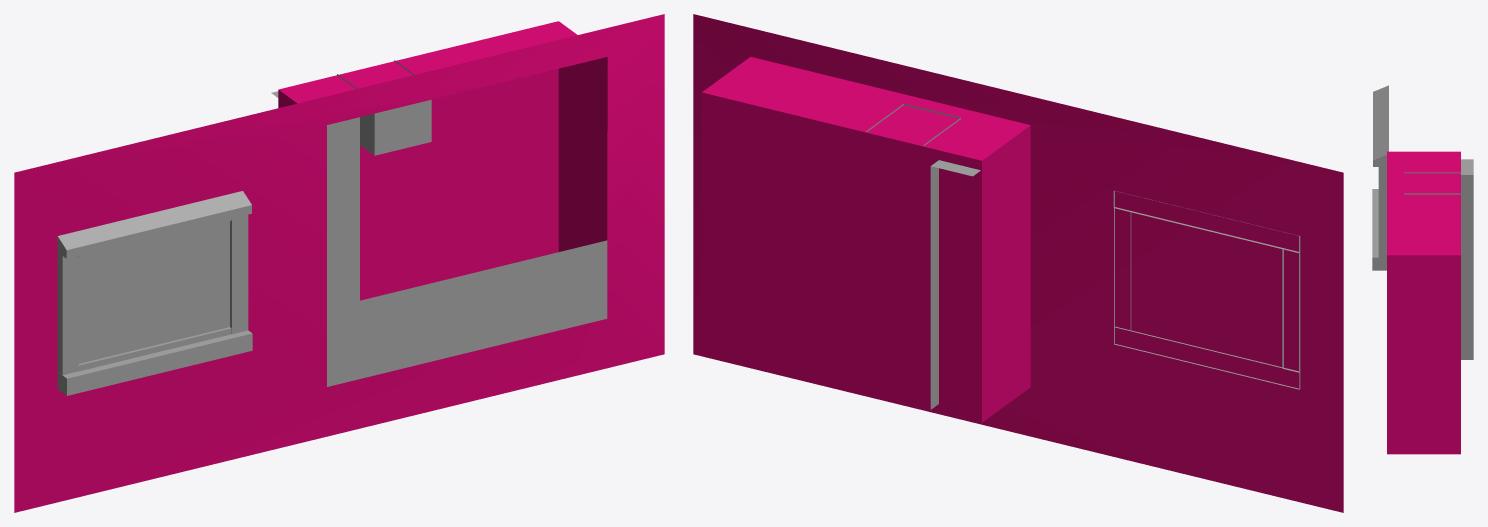
3 renders of one model, left to right at view 1: azimuth 30°, elevation 25°; view 2: azimuth 150°, elevation 25°; view 3: azimuth 270°, elevation 25°, orthographic. The views are drawn at different scales.
Parts seen in each view (by area): view 1: Brick, Wall, Bars, Glass, Window, Plaster, AC; view 2: Brick, Wall, Plaster, Window; view 3: Wall, Window, Plaster, AC.
Boxes of the visible parts, box(x1,y1,x2,y2) form: Brick: box(14, 14, 664, 512); Wall: box(278, 21, 607, 300); Bars: box(327, 240, 607, 386); Glass: box(79, 221, 229, 363); Window: box(57, 191, 252, 395); Plaster: box(271, 91, 359, 308); AC: box(337, 60, 431, 155); Brick: box(693, 14, 1343, 512); Wall: box(701, 56, 1030, 422); Plaster: box(930, 160, 980, 409); Window: box(1113, 191, 1300, 389); Wall: box(1387, 151, 1460, 454); Window: box(1372, 85, 1388, 270); Plaster: box(1461, 159, 1473, 359); AC: box(1404, 172, 1460, 194).
Bounding box in the file's own units: 6 × 3 × 1.06.
